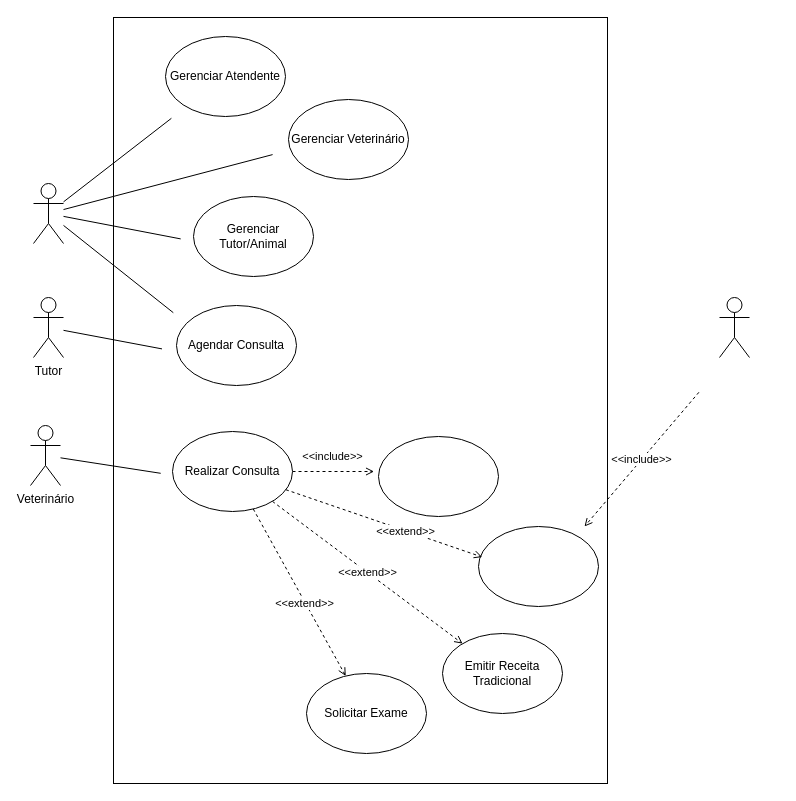
The diagram is 796 pixels wide and 801 high, and some of its shapes have lost their labels. The shapes that lost their labels are listed below. From the top down, each one's centre as x and y in pixels, then its label:
At point 48,213: "Atendente".
At point 734,327: "Sistema Externo".
At point 438,476: "Registrar Histórico".
At point 538,566: "Emitir Receita Online".
